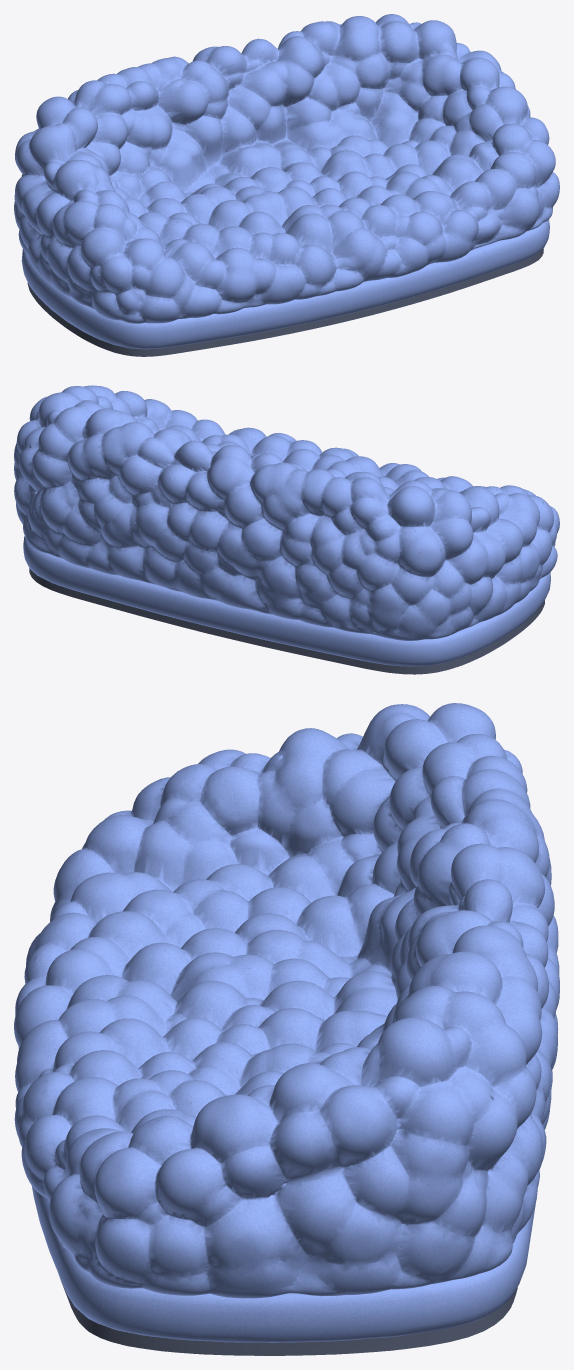
The model's file is sofa-20.glb.
The picture shows the model from 3 angles, top to bottom: view 1: azimuth 30°, elevation 25°; view 2: azimuth 150°, elevation 25°; view 3: azimuth 270°, elevation 25°; orthographic projection. The views are drawn at different scales.
Parts seen in each view (by area): view 1: Cube.002, Cube.002_Furniture_Fabric_sjfvdgbc_0.001, Cube.005, Cube.004; view 2: Cube.002, Cube.002_Furniture_Fabric_sjfvdgbc_0.001, Cube.005, Cube.004; view 3: Cube.002, Cube.002_Furniture_Fabric_sjfvdgbc_0.001, Cube.005, Cube.004.
Part boxes in pixels (<box>): Cube.002: <box>14,20,559,321</box>; Cube.002_Furniture_Fabric_sjfvdgbc_0.001: <box>15,14,555,323</box>; Cube.005: <box>21,158,549,349</box>; Cube.004: <box>27,186,543,356</box>; Cube.002: <box>14,391,559,640</box>; Cube.002_Furniture_Fabric_sjfvdgbc_0.001: <box>14,385,558,640</box>; Cube.005: <box>23,514,550,666</box>; Cube.004: <box>29,546,544,674</box>; Cube.002: <box>14,703,557,1298</box>; Cube.002_Furniture_Fabric_sjfvdgbc_0.001: <box>15,707,559,1298</box>; Cube.005: <box>32,921,537,1342</box>; Cube.004: <box>53,968,517,1355</box>.
Bounding box in the file's own units: 16.25 × 5.83 × 9.17.
Materials: 2 (1 with a texture image).
